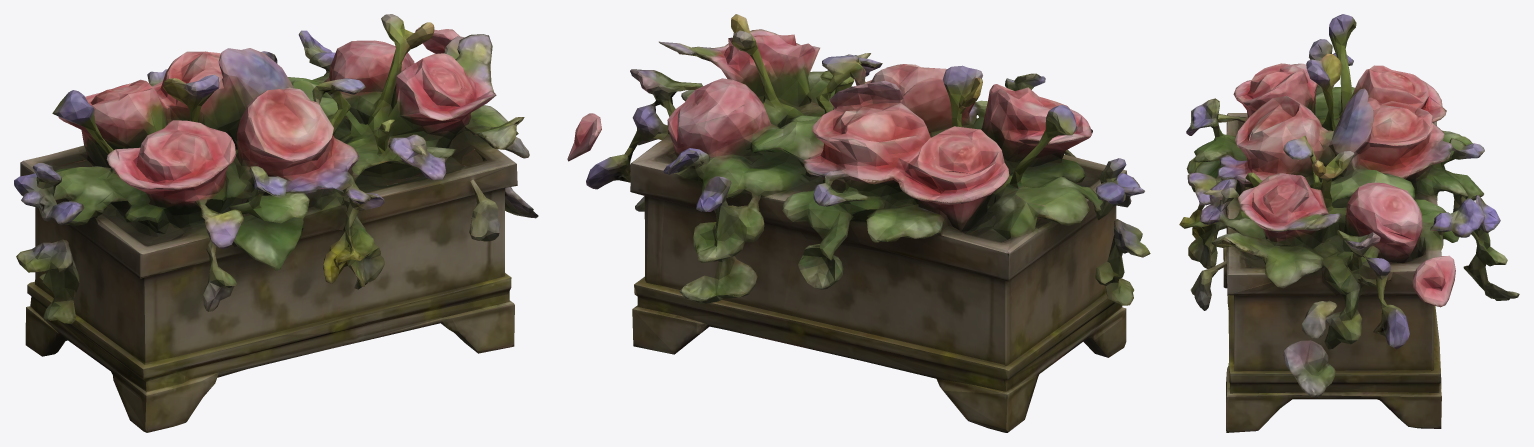
Rendered from rose-planter.glb.
The picture shows the model from 3 angles, left to right: view 1: azimuth 30°, elevation 25°; view 2: azimuth 150°, elevation 25°; view 3: azimuth 270°, elevation 25°; orthographic projection. The views are drawn at different scales.
Visible parts, largest first — view 1: world; view 2: world; view 3: world.
Part boxes in pixels (box(x1,y1,x2,y2)): world: box(14, 14, 538, 432); world: box(567, 14, 1150, 432); world: box(1179, 14, 1519, 432).
Size of the model in its own units: 0.9978 by 0.55 by 0.6551.
1 material, 1 textured.
